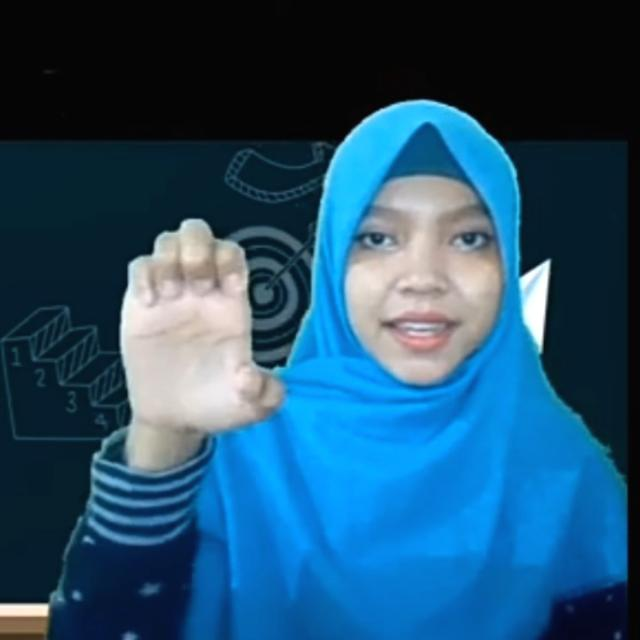E: (116, 212, 288, 440)
